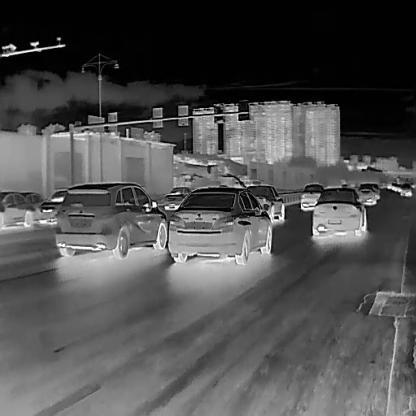car: (54, 182, 168, 259), (168, 186, 272, 263), (312, 184, 366, 239), (38, 186, 77, 224), (245, 183, 283, 220), (0, 190, 36, 228), (163, 185, 191, 208), (300, 182, 323, 210), (357, 182, 375, 204), (399, 184, 412, 197)
